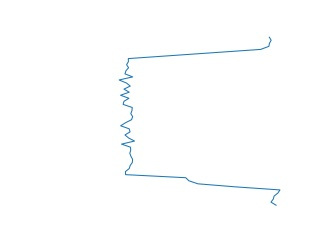distributaryChannelFill: (118, 35, 286, 209)
